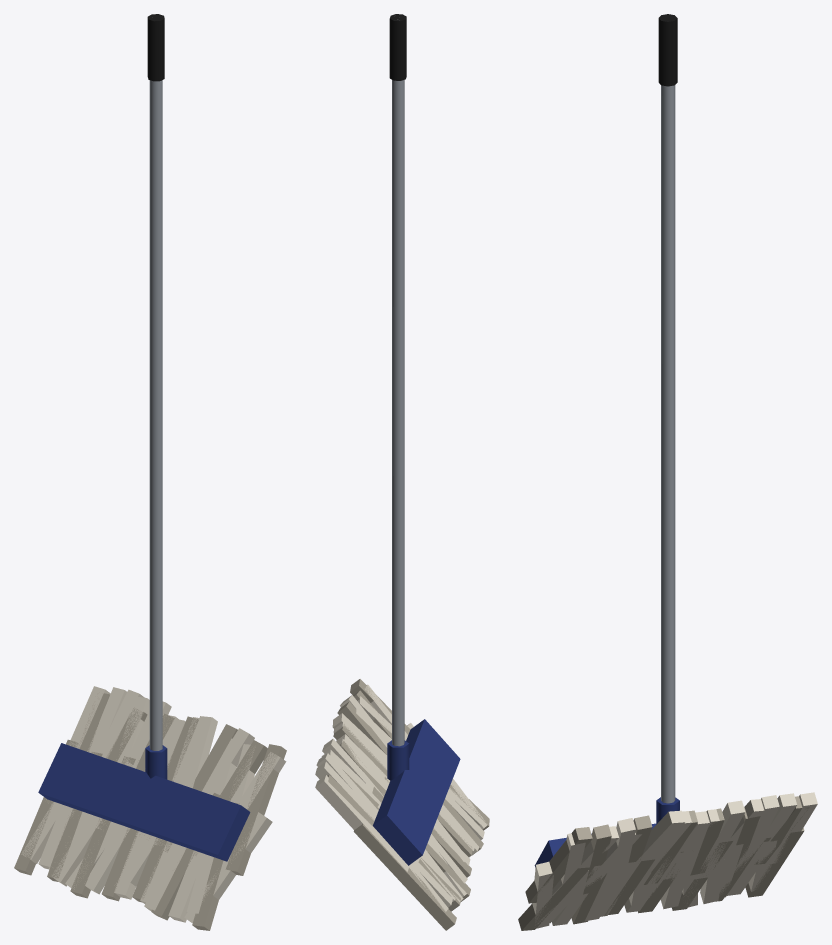
File: prop_mop.glb
The picture shows the model from 3 angles, left to right: view 1: azimuth 30°, elevation 25°; view 2: azimuth 150°, elevation 25°; view 3: azimuth 270°, elevation 25°; orthographic projection. The views are drawn at different scales.
Visible parts, largest first — view 1: prop_mop; view 2: prop_mop; view 3: prop_mop.
Part boxes in pixels (left/top/right/bottom): prop_mop: left=14, top=14, right=286, bottom=930; prop_mop: left=315, top=14, right=489, bottom=930; prop_mop: left=518, top=14, right=817, bottom=930.
Bounding box in the file's own units: 0.3933 × 1.73 × 0.5053.
